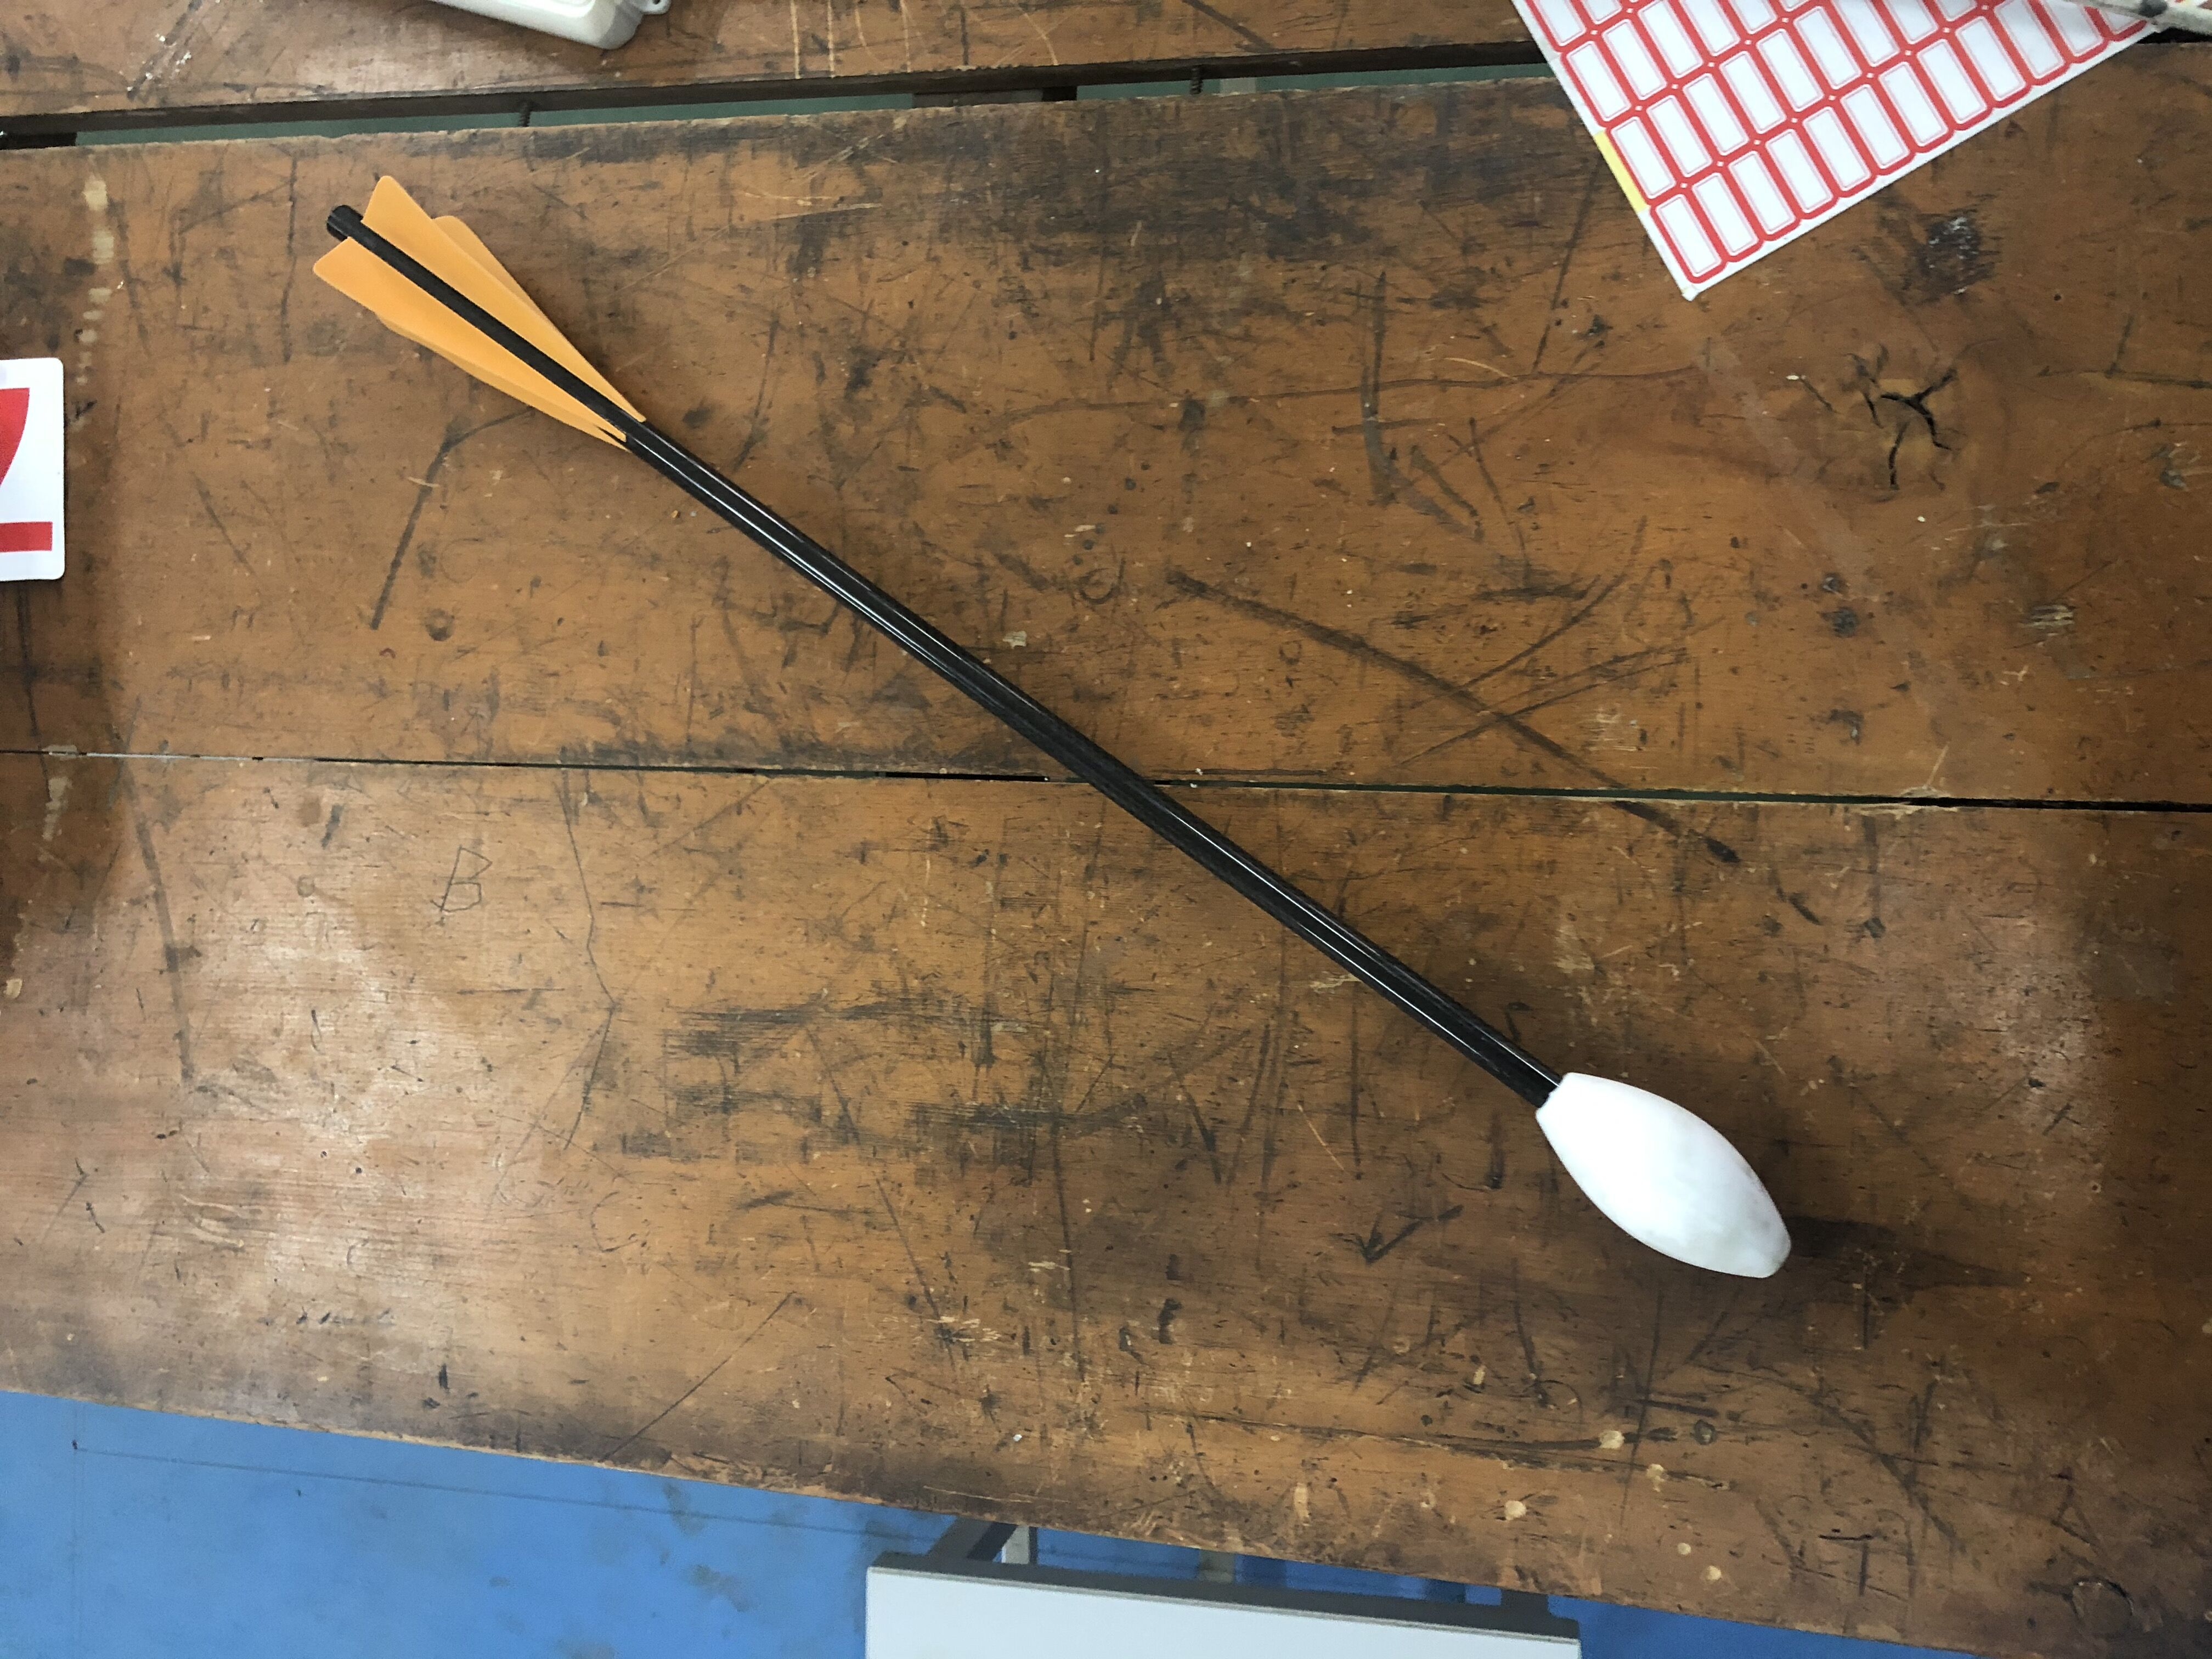arrow: (307, 169, 1797, 1286)
arrowFront: (1526, 1063, 1799, 1284)
